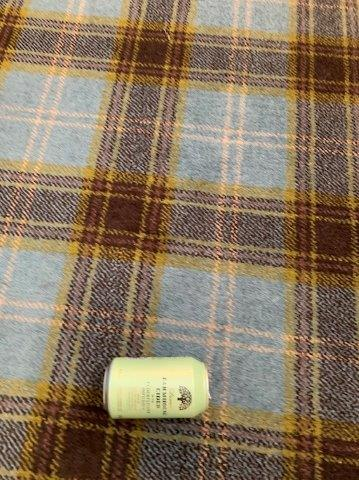kaleng: (102, 358, 209, 417)
